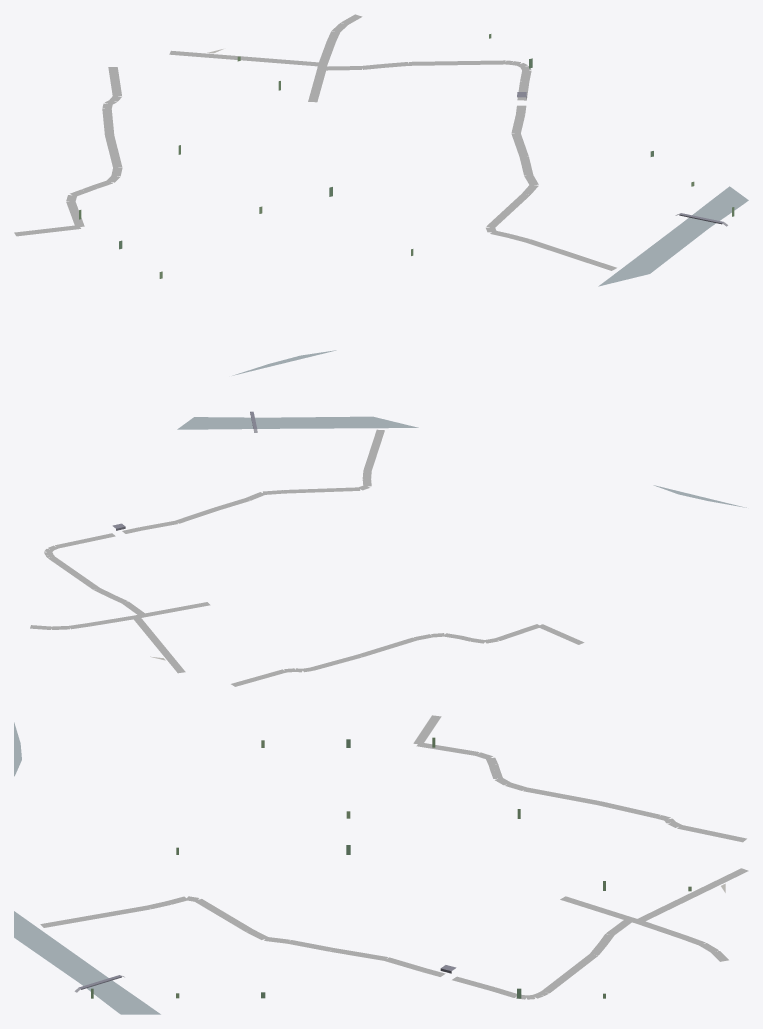
3 renders of one model, top to bottom at view 1: azimuth 30°, elevation 25°; view 2: azimuth 150°, elevation 25°; view 3: azimuth 270°, elevation 25°, orthographic. The views are drawn at different scales.
Bounding box in the file's own units: 500 × 9.68 × 516.
